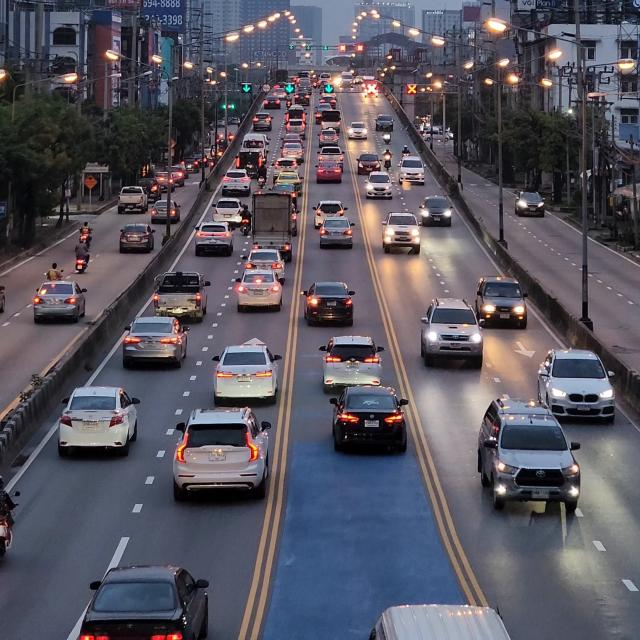Car: (467, 396, 588, 513), (76, 559, 216, 640), (170, 401, 280, 502), (58, 382, 146, 464), (540, 344, 620, 421), (325, 388, 415, 456), (413, 293, 485, 372), (316, 333, 392, 398), (214, 343, 284, 405), (120, 315, 190, 368), (249, 192, 299, 260), (476, 273, 533, 331), (302, 278, 361, 329), (153, 269, 212, 320), (34, 274, 89, 323), (232, 268, 289, 311), (191, 222, 238, 256), (385, 213, 422, 254), (120, 222, 155, 255), (424, 196, 458, 227), (322, 218, 356, 246)
